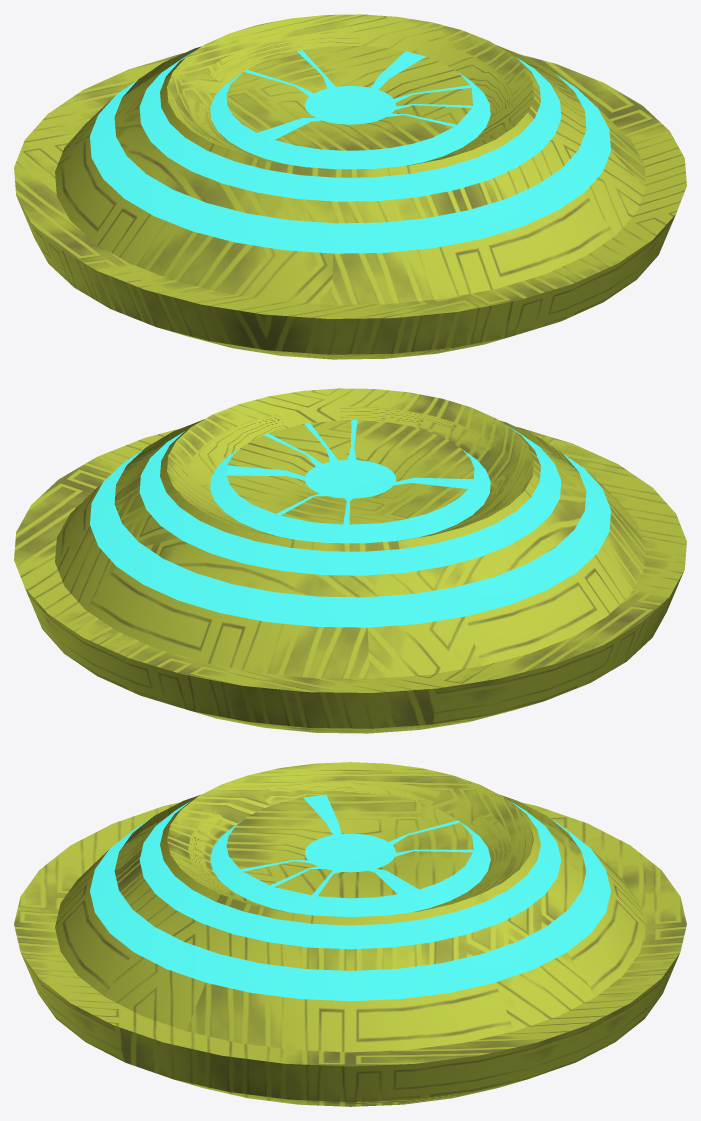
The model's file is antlevel.glb.
The picture shows the model from 3 angles, top to bottom: view 1: azimuth 30°, elevation 25°; view 2: azimuth 150°, elevation 25°; view 3: azimuth 270°, elevation 25°; orthographic projection.
Visible parts, largest first — view 1: Cylinder-col; view 2: Cylinder-col; view 3: Cylinder-col.
Part boxes in pixels (left/top/right/bottom): Cylinder-col: left=14, top=14, right=686, bottom=359; Cylinder-col: left=14, top=388, right=686, bottom=733; Cylinder-col: left=14, top=762, right=686, bottom=1106.
Size of the model in its own units: 97.8 by 24.74 by 97.8.
Materials: 2 (1 with a texture image).
